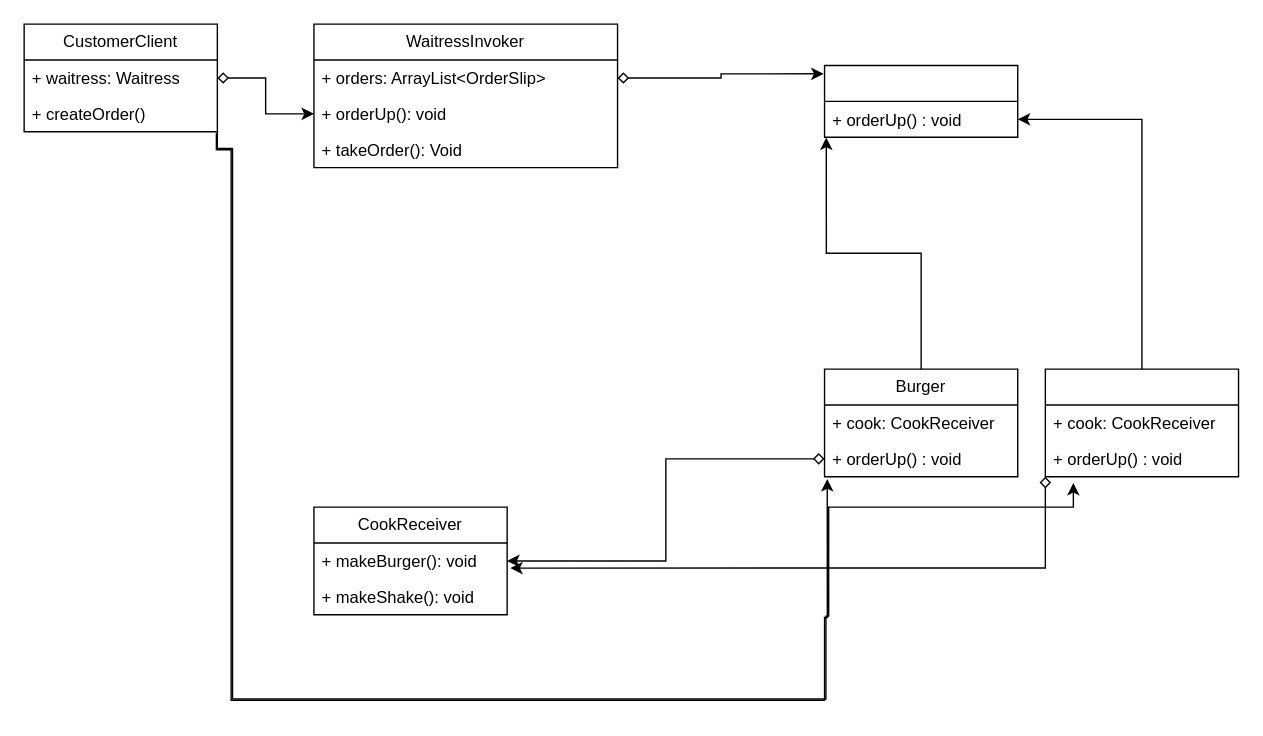
The diagram is 1263 pixels wide and 736 high, and some of its shapes have lost their labels. The box of each missing label's shape, as (x1, y1, x2, y2) in pixels:
<<OrderSlip>>: (823, 64, 1018, 137)
Shake: (1044, 368, 1239, 477)
